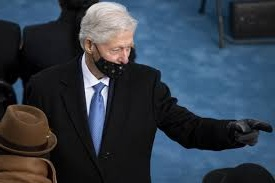mask_weared_incorrect: (85, 10, 137, 78)
